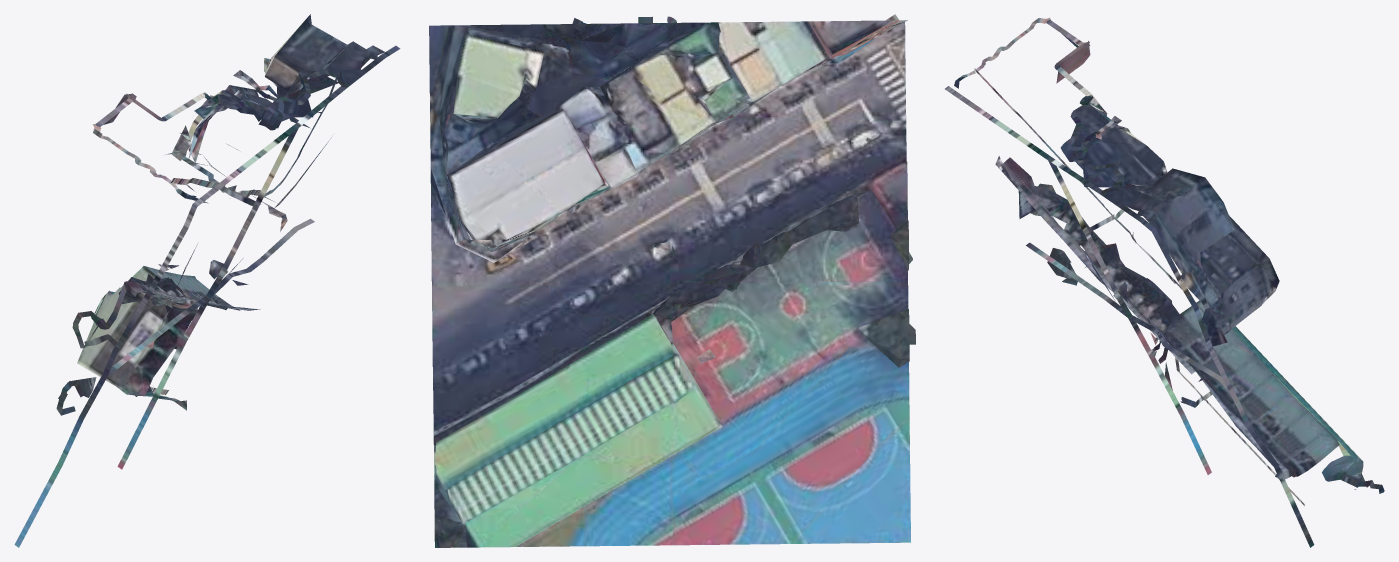
The picture shows the model from 3 angles, left to right: view 1: azimuth 30°, elevation 25°; view 2: azimuth 150°, elevation 25°; view 3: azimuth 270°, elevation 25°; orthographic projection. The views are drawn at different scales.
Bounding box in the file's own units: 76.81 × 78.67 × 76.89.
2 materials, 2 textured.
